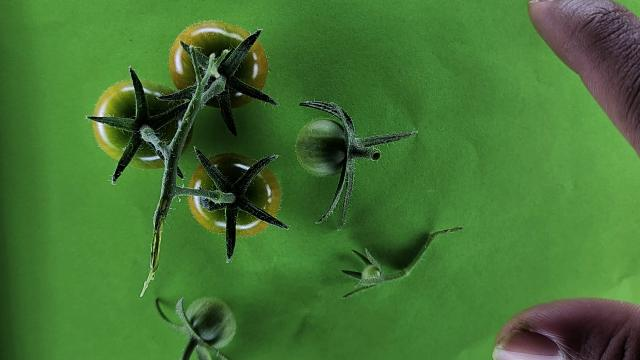Fruit Bud: (339, 248, 390, 299), (362, 265, 381, 282)
Fruit Maturation: (292, 118, 350, 178), (183, 295, 237, 355)
Fully Grown: (90, 78, 195, 169), (168, 21, 267, 109), (188, 153, 279, 237)
